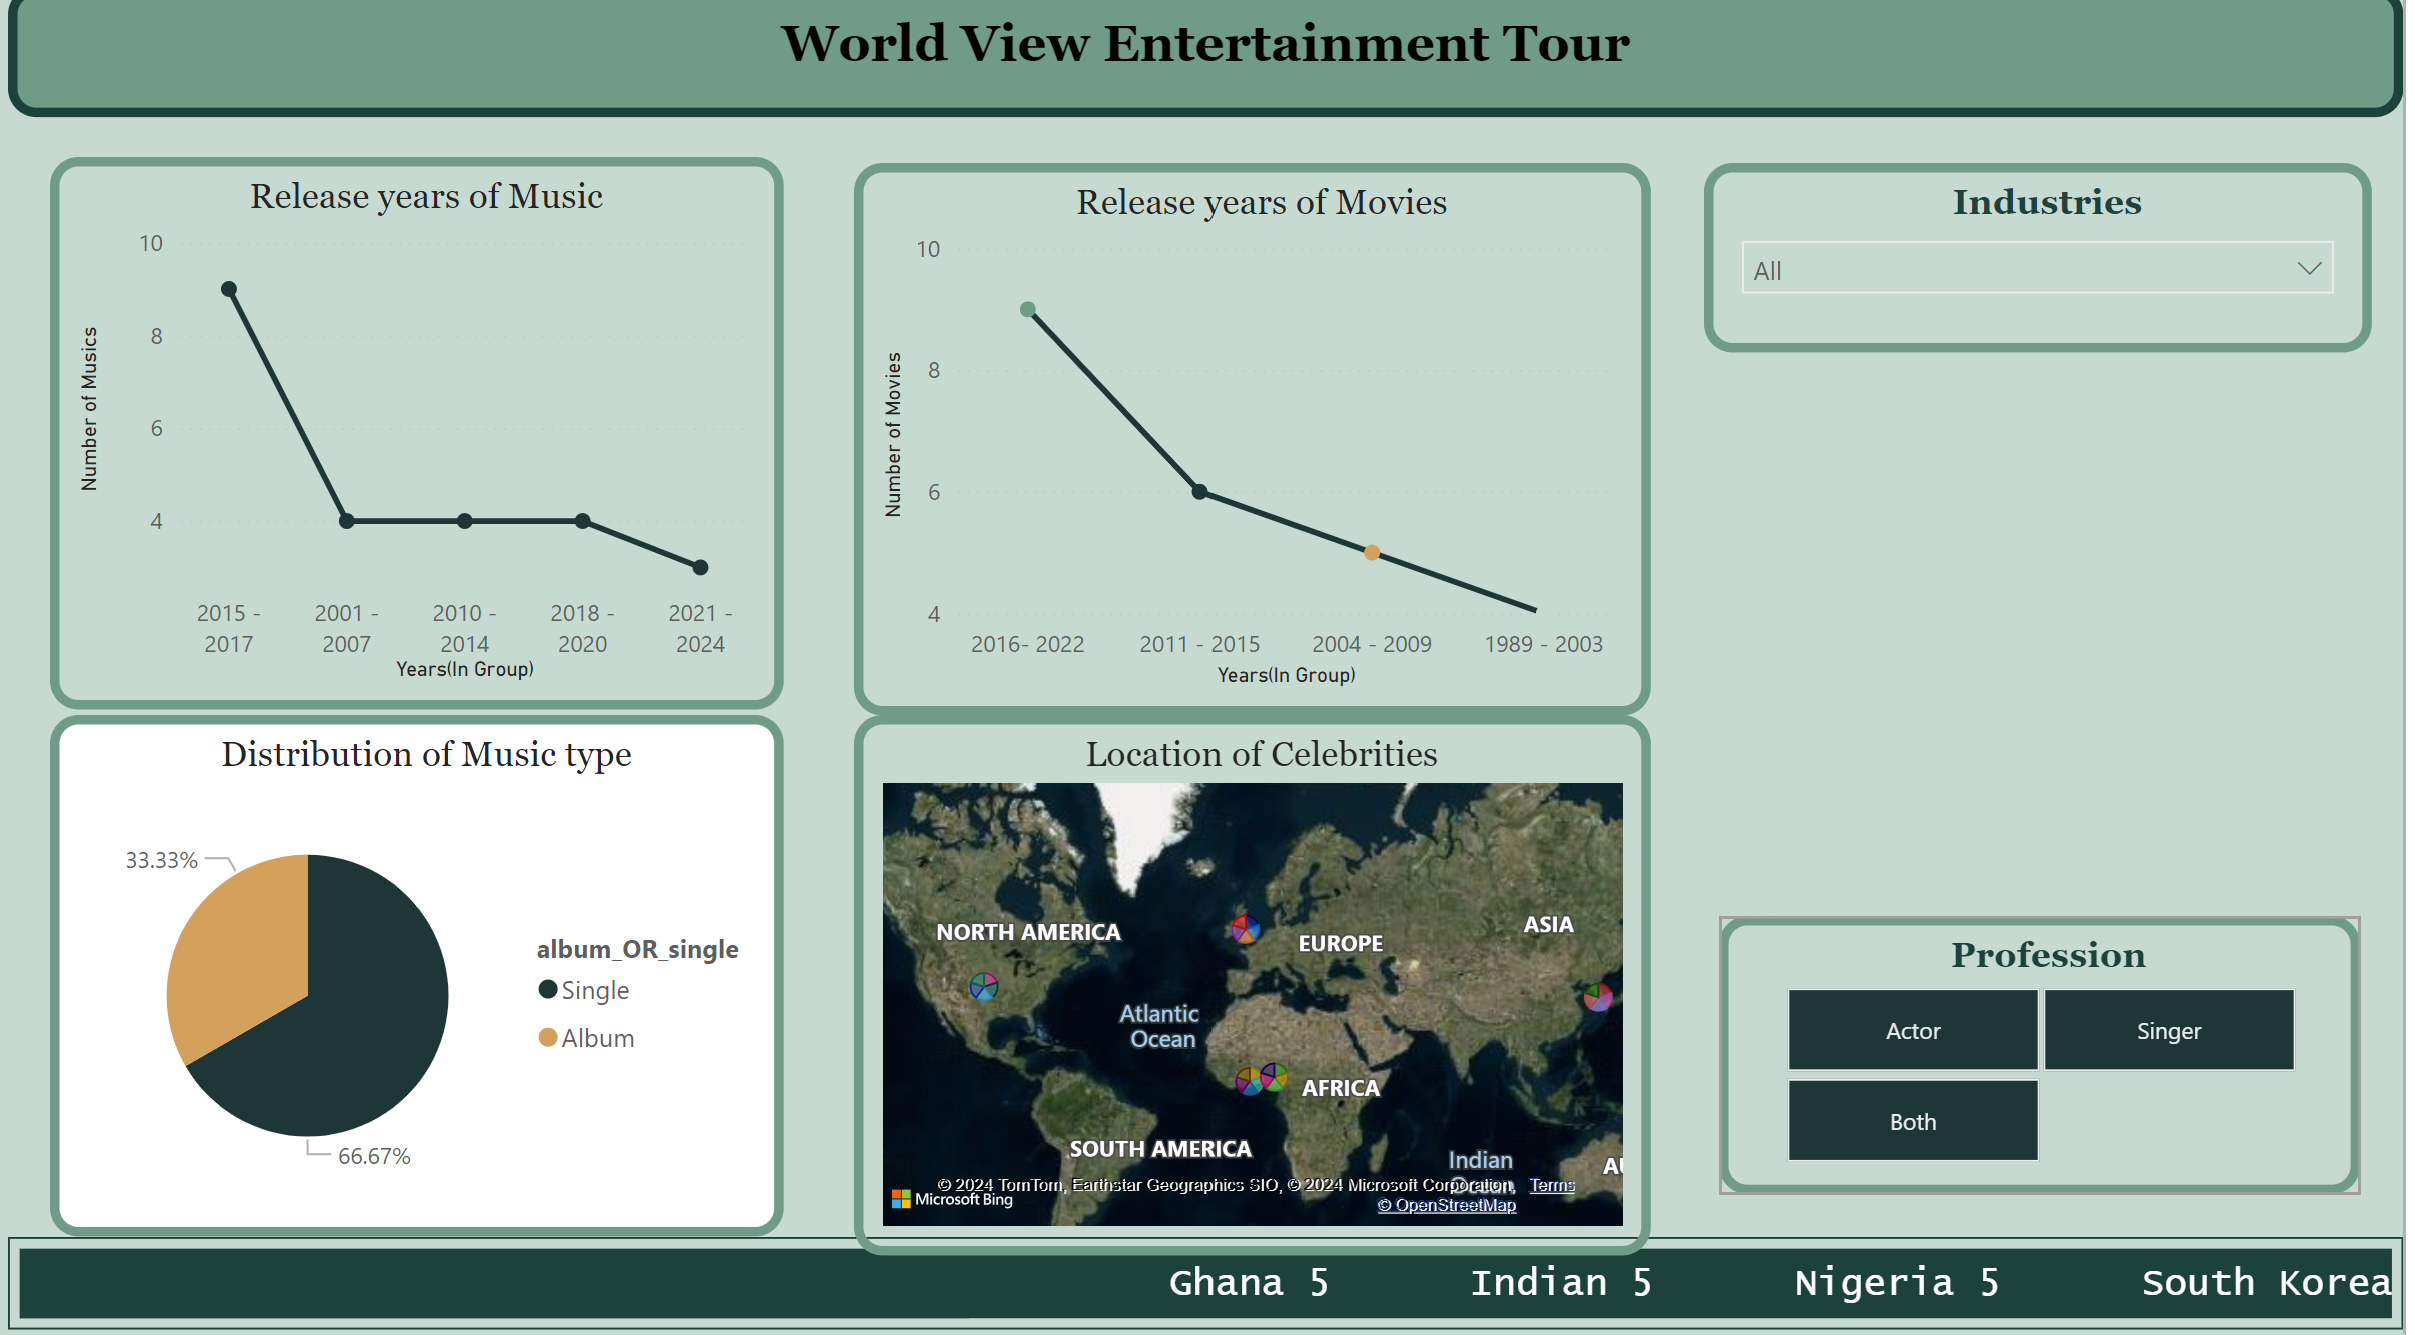

What the dashboard file says about the page in this screenshot:
{"tool":"powerbi","page":{"name":"Movies & Music","canvas":[1280,720],"ordinal":3},"visuals":[{"type":"textbox","box":[20.3,0,1259.7,69.1],"z":0},{"type":"slicer","title":"Industries","fields":{"Values":["Industry.industry_name"]},"box":[912.3,93.5,351.5,99.6],"z":1000},{"type":"ScrollingTextVisual1448795304508","fields":{"Category":["Celebrity.country"],"Measure Absolute":["CountNonNull(Celebrity.celebrity_id)"]},"box":[20.3,658.3,1259.7,48.8],"z":2000},{"type":"slicer","title":"Profession","fields":{"Values":["Celebrity.profession"]},"box":[920.4,489.7,337.3,146.3],"z":3000},{"type":"pieChart","title":"Distribution of Music type","fields":{"Y":["CountNonNull(Music.music_id)"],"Category":["Music.album_OR_single"]},"box":[42.7,384,386,274.3],"z":4000},{"type":"lineChart","title":"Release years of Movies","fields":{"Category":["Movies.release_year (groups)"],"Y":["CountNonNull(Movies.movie_id)"]},"box":[465.3,93.5,418.5,290.5],"z":5000},{"type":"lineChart","title":"Release years of Music","fields":{"Category":["Music.release_year (groups)"],"Y":["CountNonNull(Music.music_id)"]},"box":[42.7,89.4,386,290.5],"z":6000},{"type":"map","title":"Location of Celebrities","fields":{"Category":["Celebrity.country"],"Series":["Celebrity.Full Name"]},"box":[465.3,384,418.5,284.4],"z":7000}]}

Visuals, with their boxes in screenshot pixels (x1, y1, x2, y2), scaled from the page's 1280x720 canvas onto the 2415x1335 screenshot:
textbox: bbox(38, 0, 2414, 128)
"Industries" slicer: bbox(1721, 173, 2384, 358)
ScrollingTextVisual1448795304508 - Celebrity.country x CountNonNull(Celebrity.celebrity_id): bbox(38, 1221, 2414, 1311)
"Profession" slicer: bbox(1737, 908, 2373, 1179)
"Distribution of Music type" pieChart: bbox(81, 712, 809, 1221)
"Release years of Movies" lineChart: bbox(878, 173, 1667, 712)
"Release years of Music" lineChart: bbox(81, 166, 809, 704)
"Location of Celebrities" map: bbox(878, 712, 1667, 1239)
